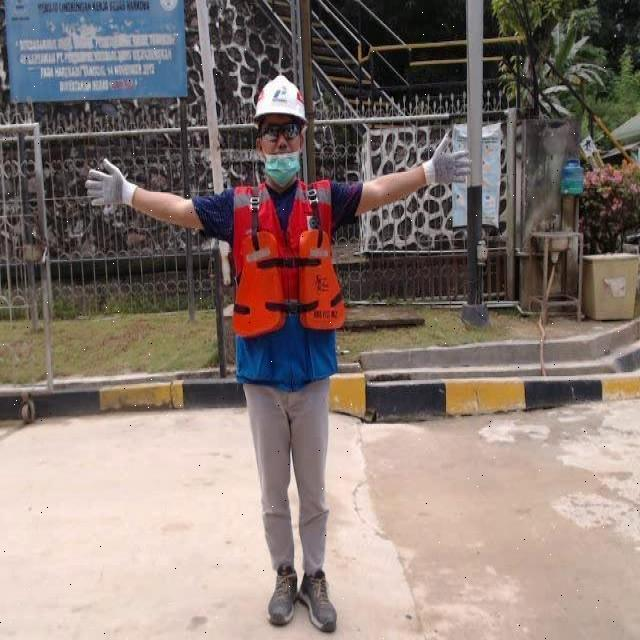Hard_hat: (251, 76, 313, 136)
Person: (84, 77, 475, 635)
Vest: (236, 187, 338, 344)
